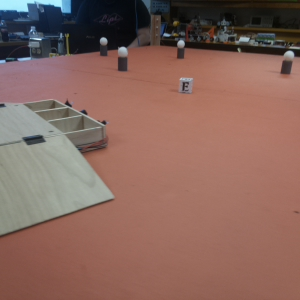blockE: (179, 76, 193, 95)
corner: (151, 14, 161, 47)
obstacle: (281, 51, 293, 76), (117, 47, 128, 71), (99, 36, 109, 59), (176, 40, 185, 59)
slope: (1, 135, 114, 241)
